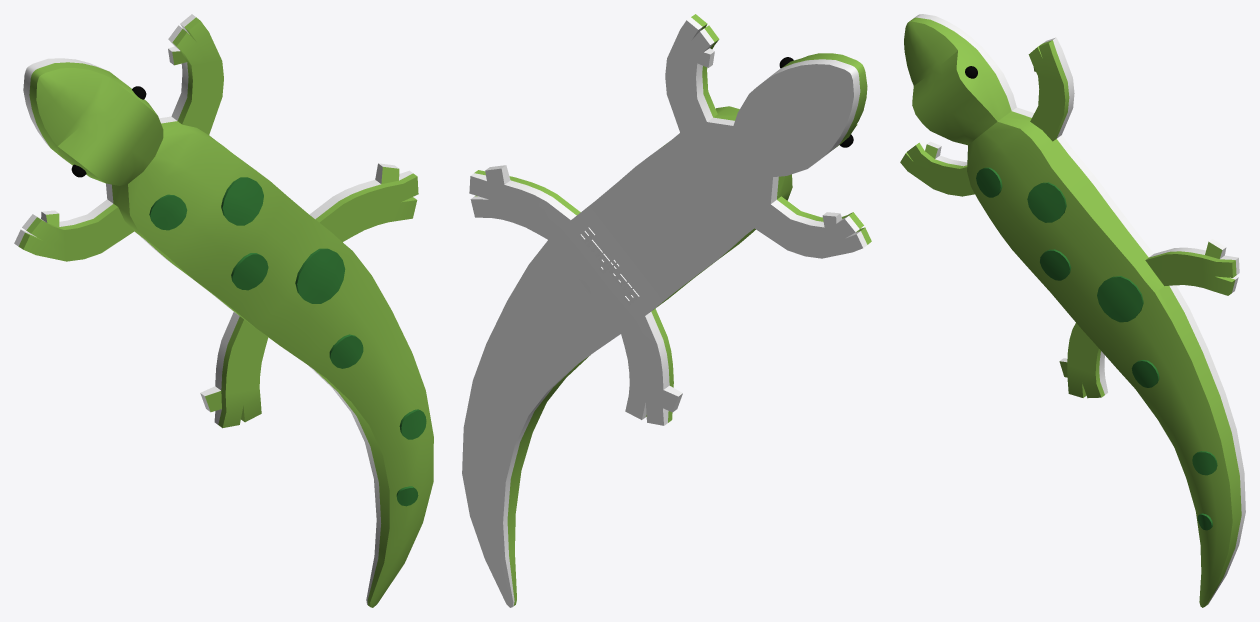
Rendered from lizard.glb.
The picture shows the model from 3 angles, left to right: view 1: azimuth 30°, elevation 25°; view 2: azimuth 150°, elevation 25°; view 3: azimuth 330°, elevation 25°; orthographic projection. The views are drawn at different scales.
Visible parts, largest first — view 1: Cube.045, Plane.161; view 2: Cube.045; view 3: Cube.045, Plane.161.
Part boxes in pixels (bbox=[...]): Cube.045: bbox=[14, 14, 433, 607]; Plane.161: bbox=[149, 177, 426, 506]; Cube.045: bbox=[462, 14, 871, 607]; Cube.045: bbox=[900, 14, 1245, 607]; Plane.161: bbox=[976, 167, 1217, 530].
Bounding box in the file's own units: 1.43 × 2.14 × 0.21.
Materials: 1 (1 with a texture image).
